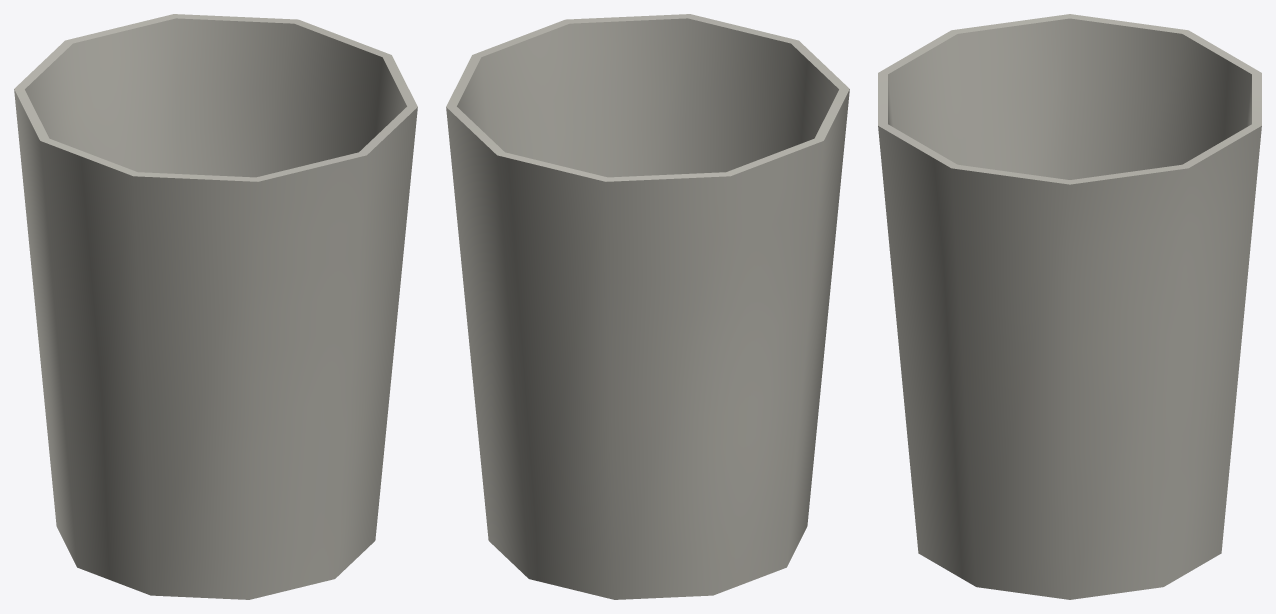
File: cup_prison.fbx
3 renders of one model, left to right at view 1: azimuth 30°, elevation 25°; view 2: azimuth 150°, elevation 25°; view 3: azimuth 270°, elevation 25°, orthographic.
Visible parts, largest first — view 1: cup_prison; view 2: cup_prison; view 3: cup_prison.
Part boxes in pixels (bbox=[...]): cup_prison: bbox=[14, 14, 417, 599]; cup_prison: bbox=[446, 14, 849, 599]; cup_prison: bbox=[878, 14, 1261, 599].
Size of the model in its own units: 0.076 by 0.09 by 0.0723.
Materials: 1 (1 with a texture image).
